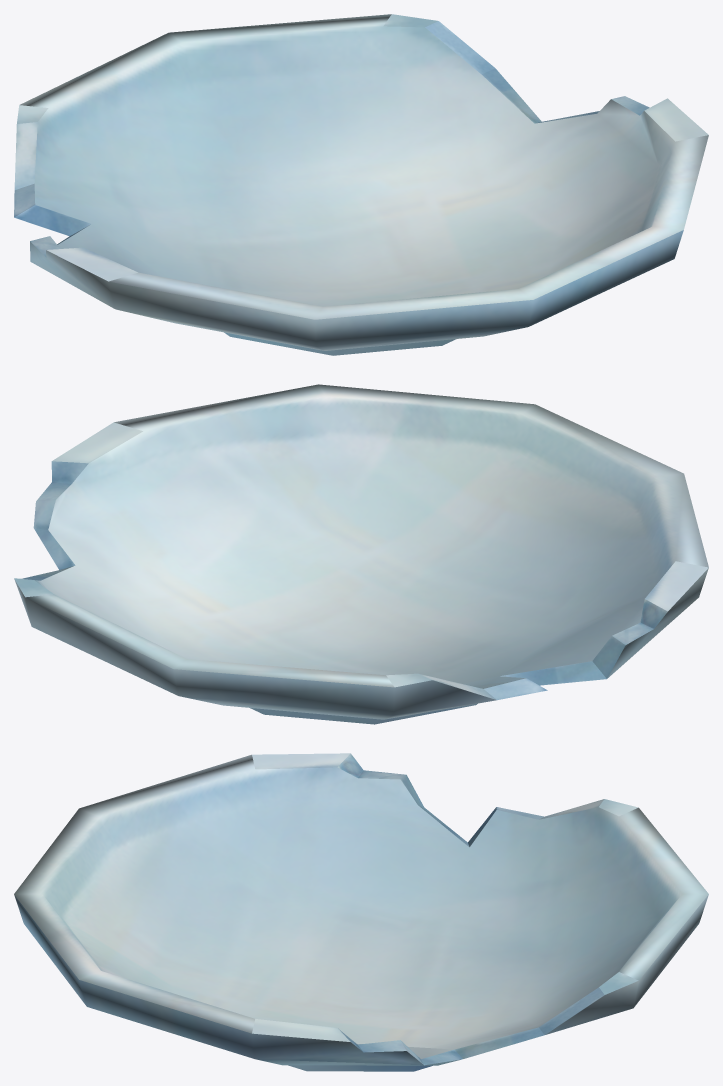
Rendered from 3D_recycle_trash_glass02.FBX.
The picture shows the model from 3 angles, top to bottom: view 1: azimuth 30°, elevation 25°; view 2: azimuth 150°, elevation 25°; view 3: azimuth 270°, elevation 25°; orthographic projection. The views are drawn at different scales.
Visible parts, largest first — view 1: 3D_recycle_trash_glass02; view 2: 3D_recycle_trash_glass02; view 3: 3D_recycle_trash_glass02.
Part boxes in pixels (x1,y1,x2,y2): 3D_recycle_trash_glass02: (14, 14, 708, 355); 3D_recycle_trash_glass02: (14, 384, 708, 724); 3D_recycle_trash_glass02: (14, 753, 708, 1071).
Size of the model in its own units: 0.3932 by 0.0683 by 0.3998.
